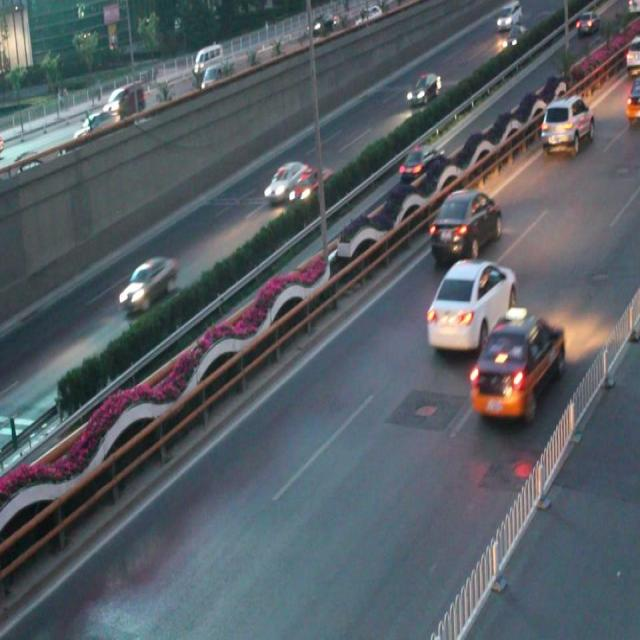car: (466, 308, 564, 415), (423, 259, 516, 350), (430, 184, 499, 260), (538, 98, 593, 156), (118, 257, 177, 308), (286, 165, 332, 208), (260, 160, 306, 200), (399, 141, 440, 180), (403, 68, 441, 106)
